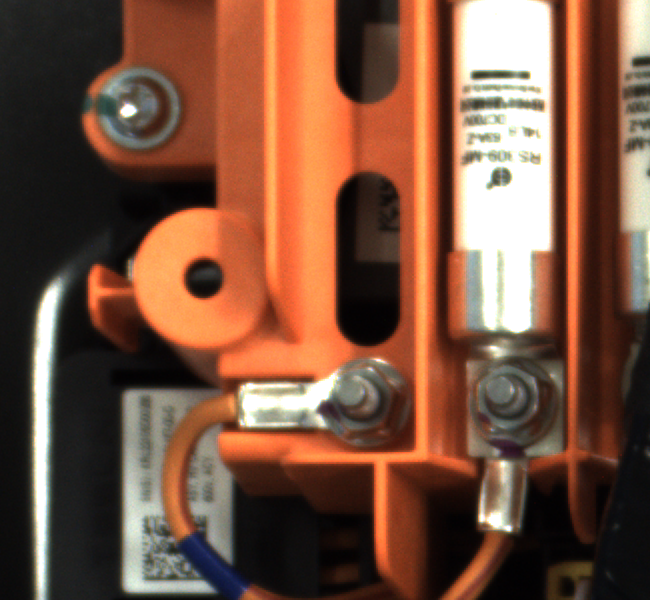screw_m: (72, 61, 185, 155)
screw_s: (459, 361, 574, 458), (310, 348, 415, 454)
